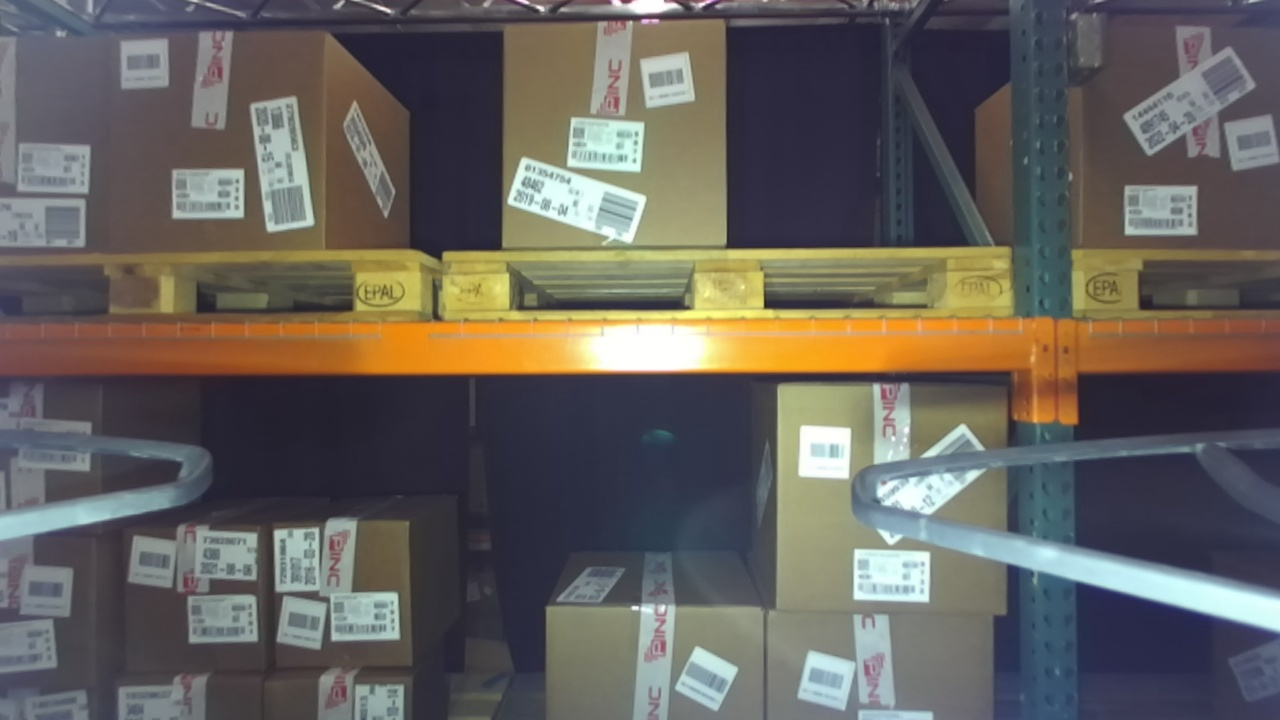box: (3, 5, 352, 277), (747, 377, 1036, 632), (477, 7, 760, 264), (1071, 10, 1276, 285), (734, 593, 1010, 720), (532, 587, 781, 720), (248, 505, 434, 681), (107, 515, 286, 697)
